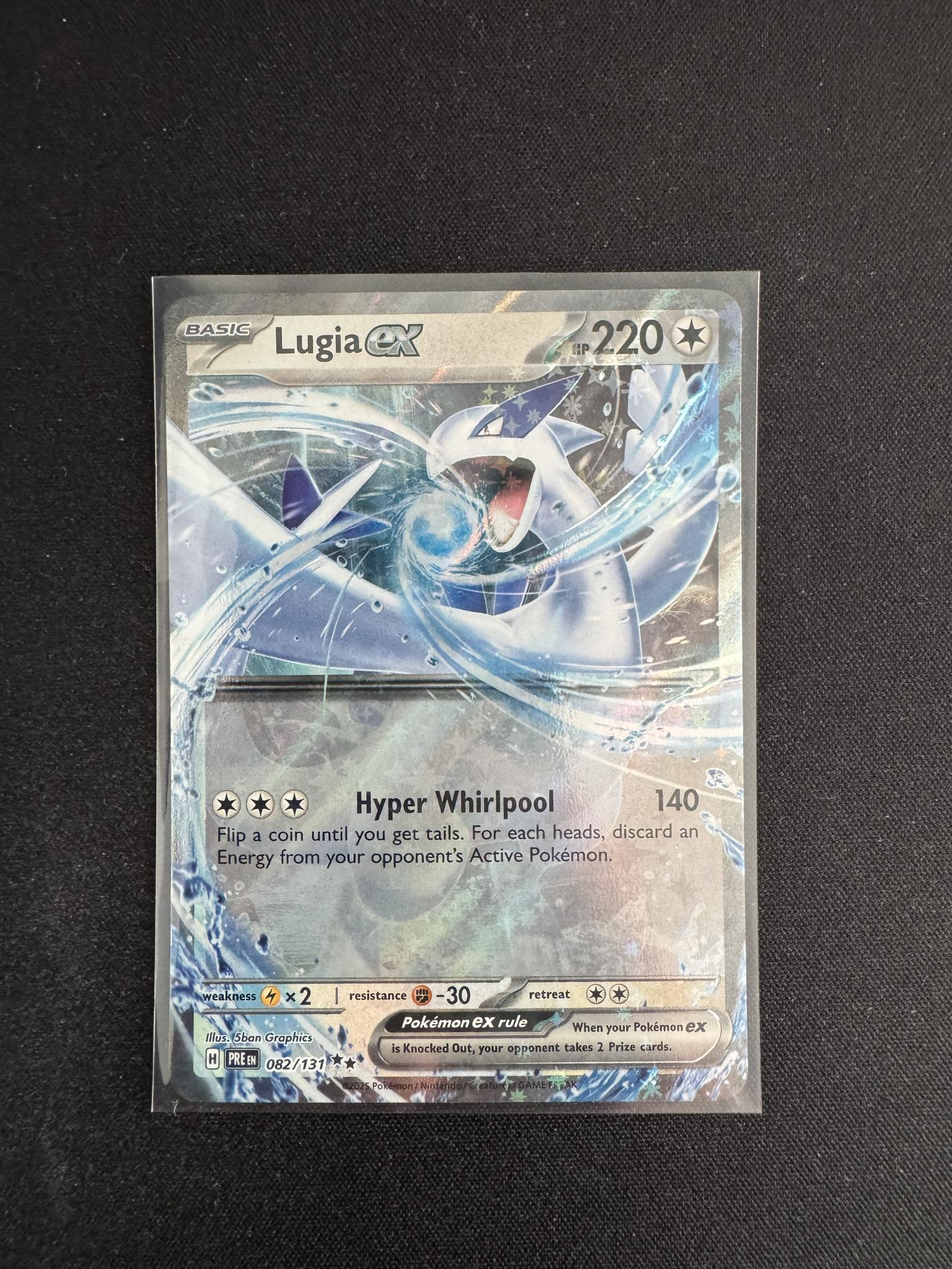card-2UtV: (163, 288, 748, 1103)
